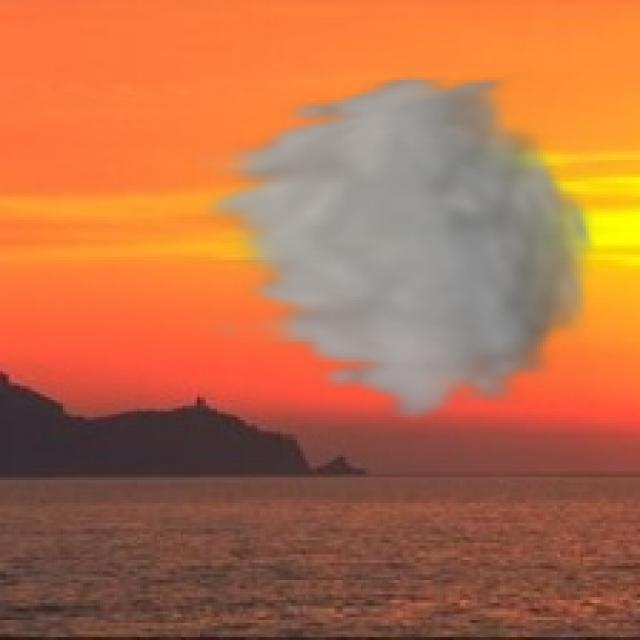Smoke: (191, 71, 603, 426)
